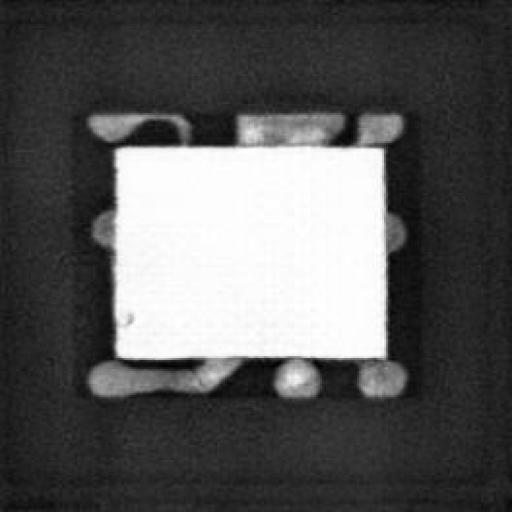DIE_INK: (120, 306, 134, 325)
